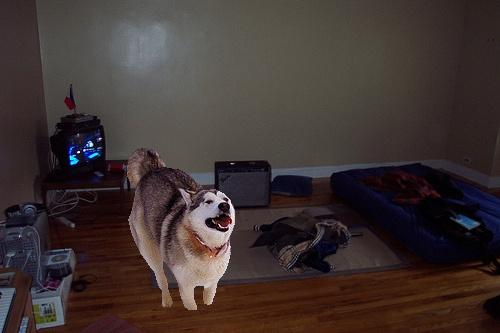tampered: (128, 149, 235, 310)
